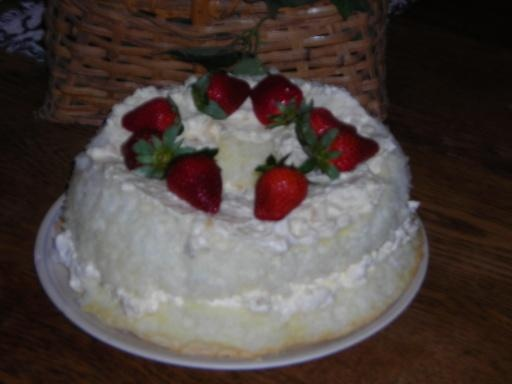background: (41, 43, 340, 215)
